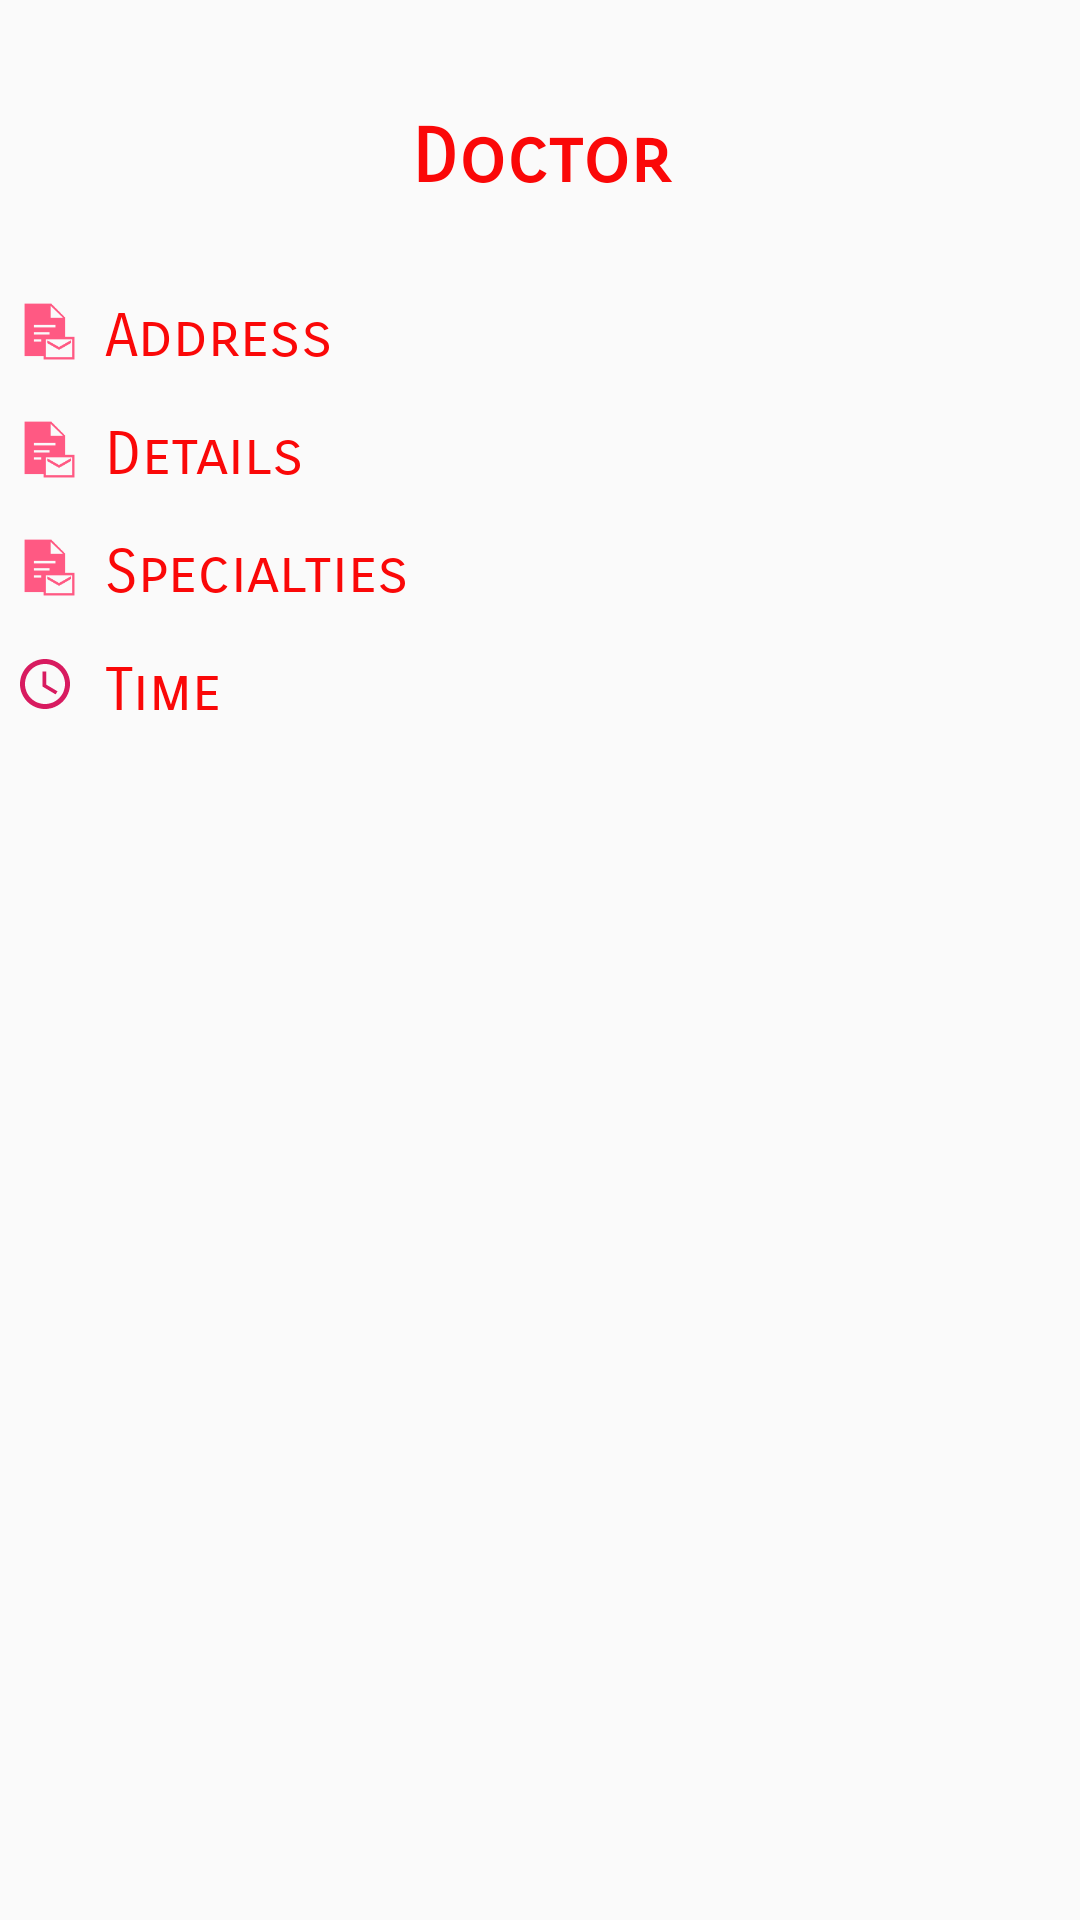

Locate icon controls on the screen. Image size 1080px x 1920px, boxes as box=[x1, y1, x2, y2].
email: box=[24, 303, 75, 360], box=[24, 421, 75, 478], box=[24, 539, 75, 596]
